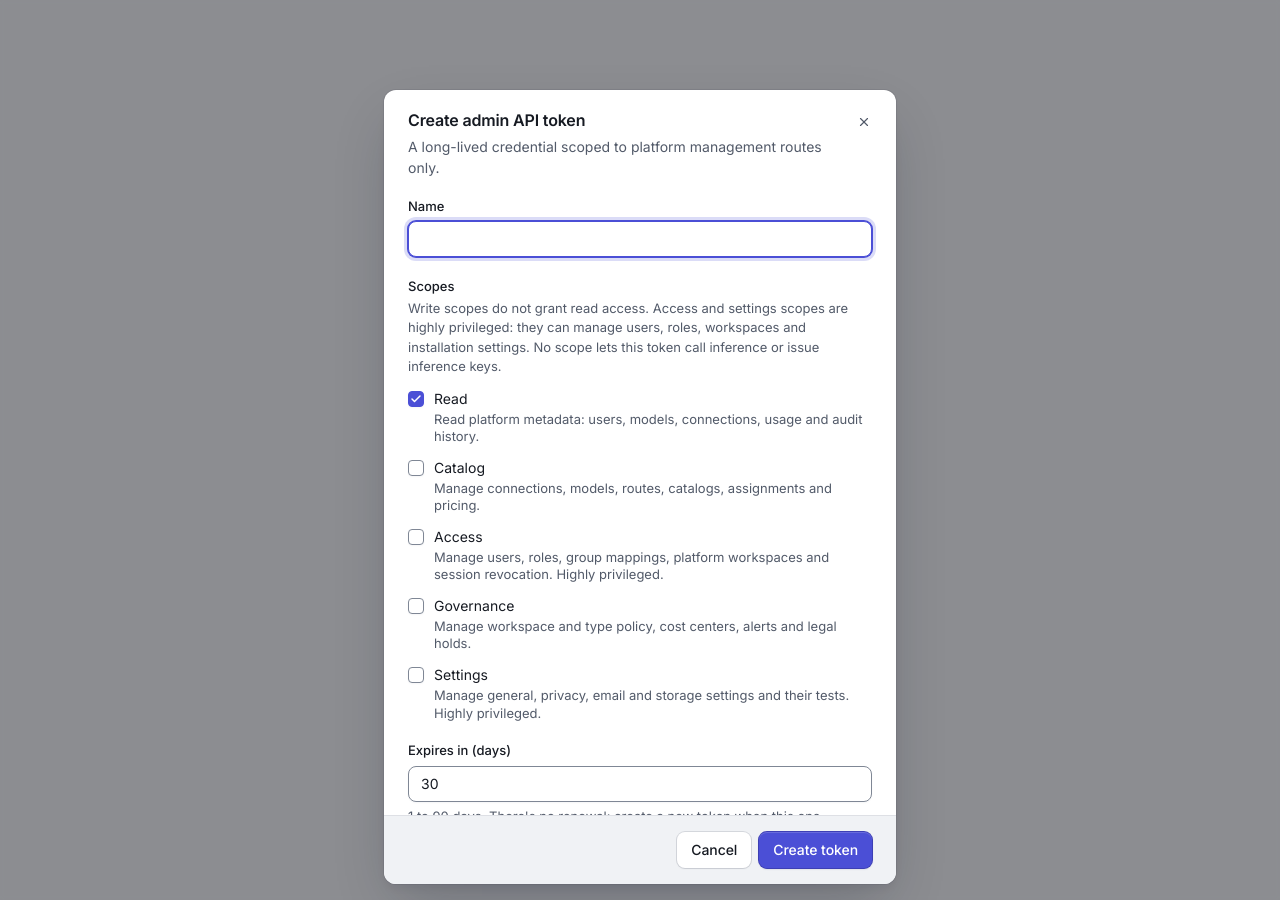
CreateAdminTokenDialog Copy lifetime › copies the currently displayed secret without putting it in caches or storage
The image size is (1280, 900).
Type "CI publisher" into the field labelled "Name" at (640, 239), box [408,221,872,257]
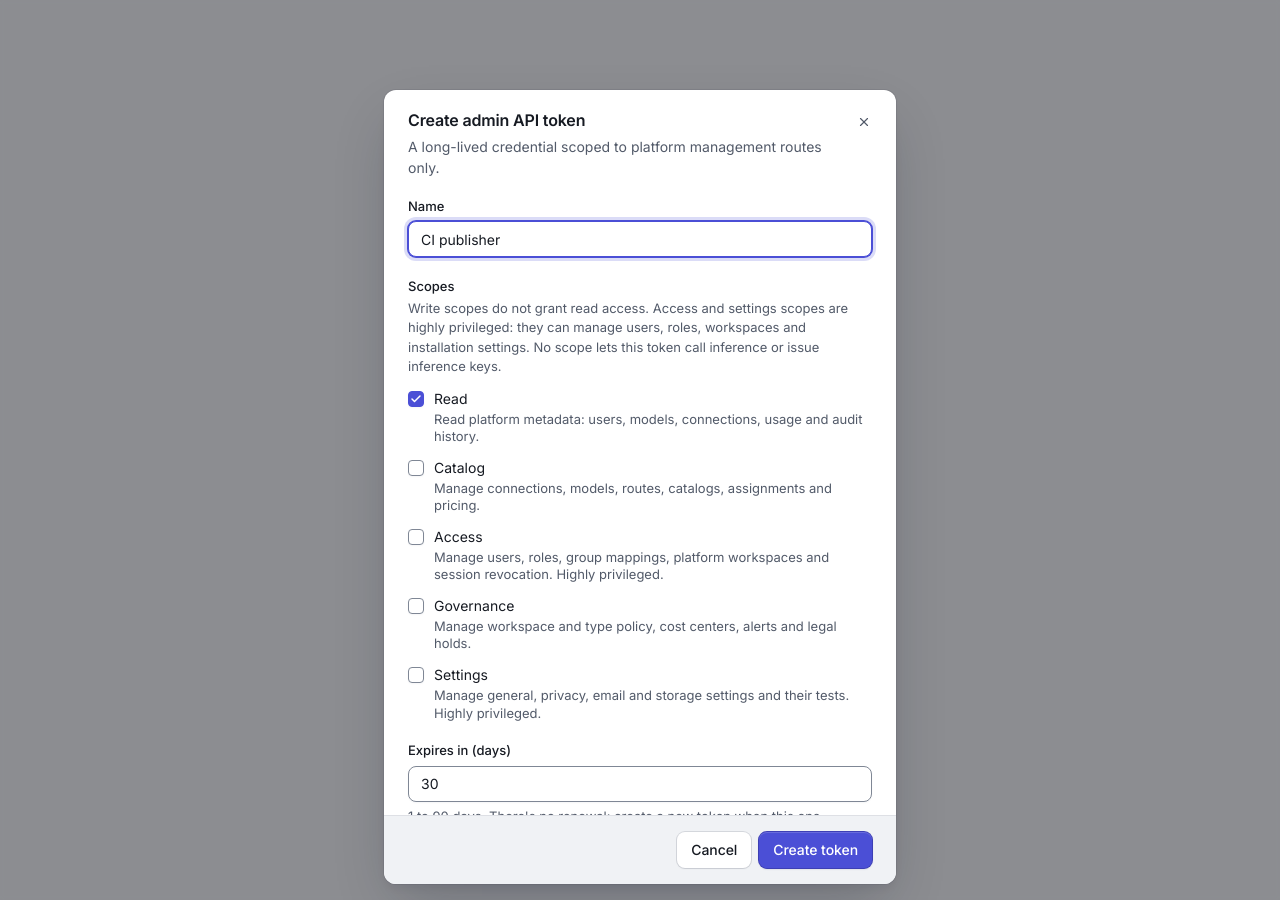
Click the button "Create token" at (816, 850), box [759,832,872,868]
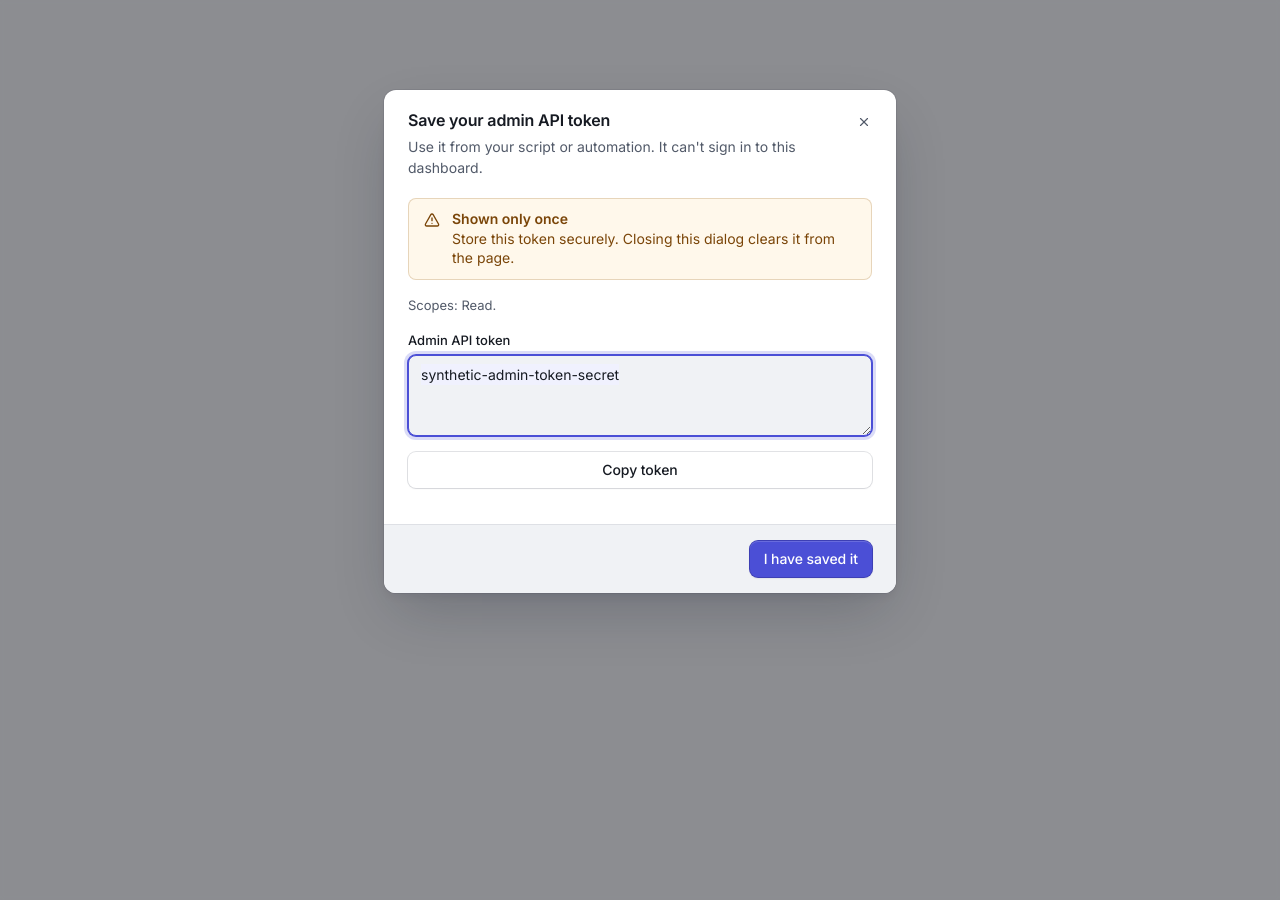
Expected: the text box labelled "Admin API token" holds "synthetic-admin-token-secret", [408,355,872,436]
Expected: the dialog shows "Shown only once", [452,210,568,227]
Click the button "Copy token" at (640, 470), box [408,452,872,488]
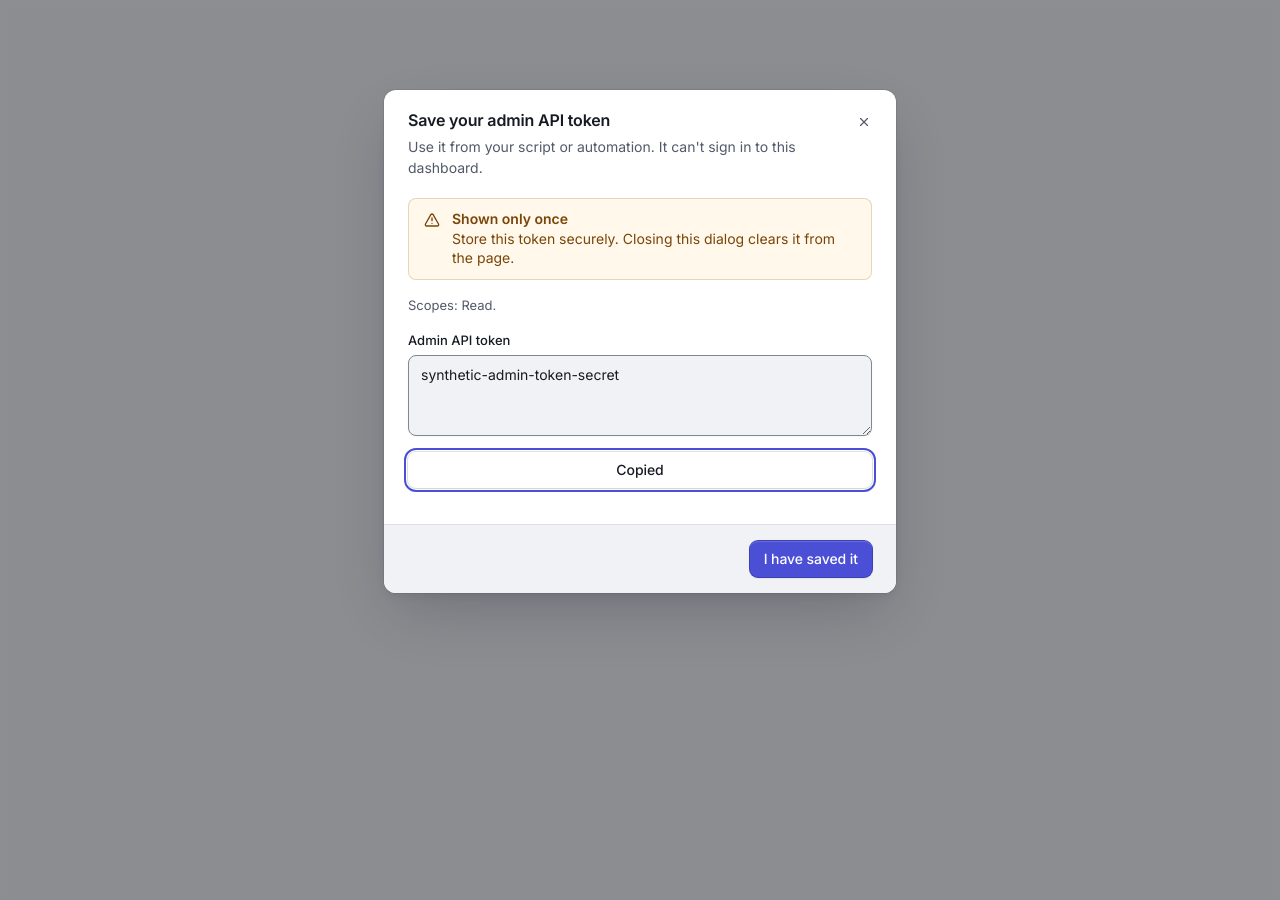
Expected: the button "Copied" is shown, [408,452,872,488]
